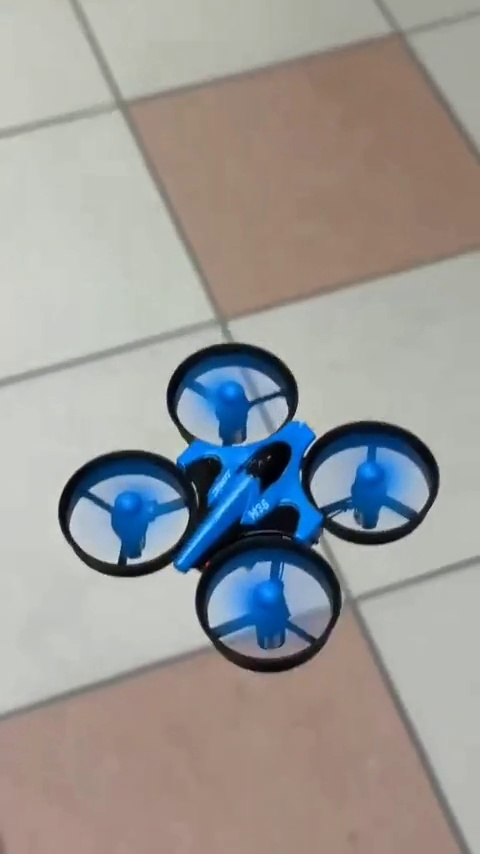drone: (62, 345, 441, 656)
